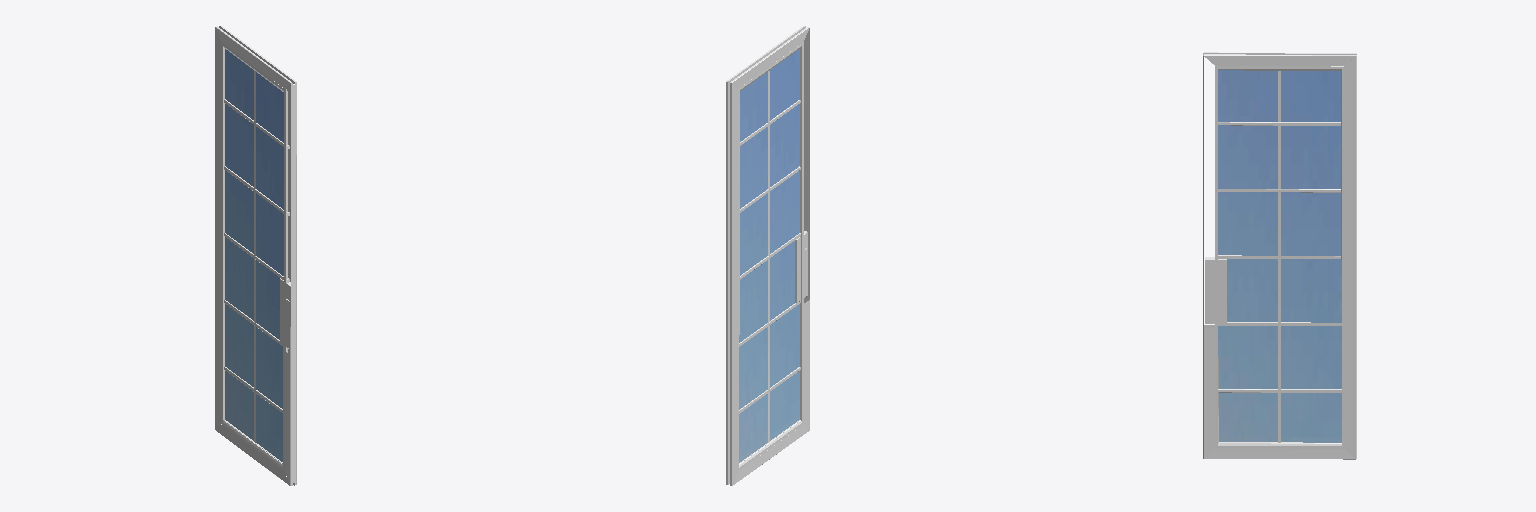
3 renders of one model, left to right at view 1: azimuth 30°, elevation 25°; view 2: azimuth 150°, elevation 25°; view 3: azimuth 270°, elevation 25°, orthographic.
Visible parts, largest first — view 1: Box2651; view 2: Box2651; view 3: Box2651.
Part boxes in pixels (left/top/right/bottom): Box2651: left=215, top=26, right=296, bottom=485; Box2651: left=726, top=26, right=809, bottom=485; Box2651: left=1203, top=52, right=1356, bottom=459.
Size of the model in its own units: 0.0168 by 0.8935 by 0.3076.
2 materials, 2 textured.